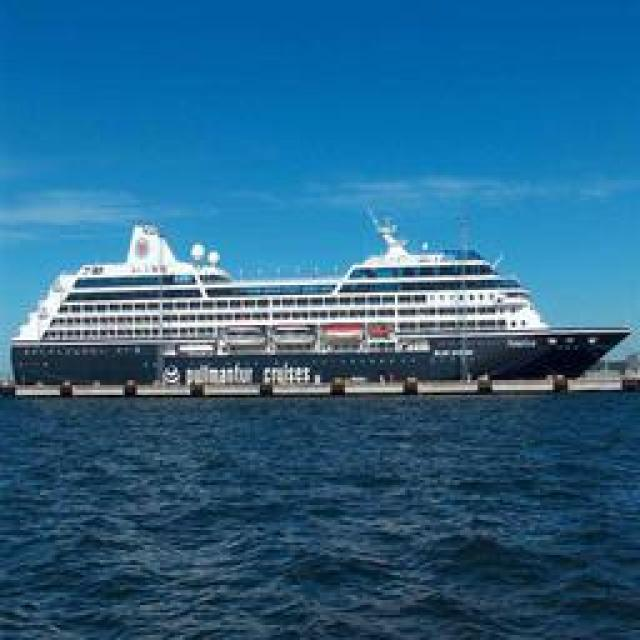CIV_Ship: (15, 208, 633, 400)
